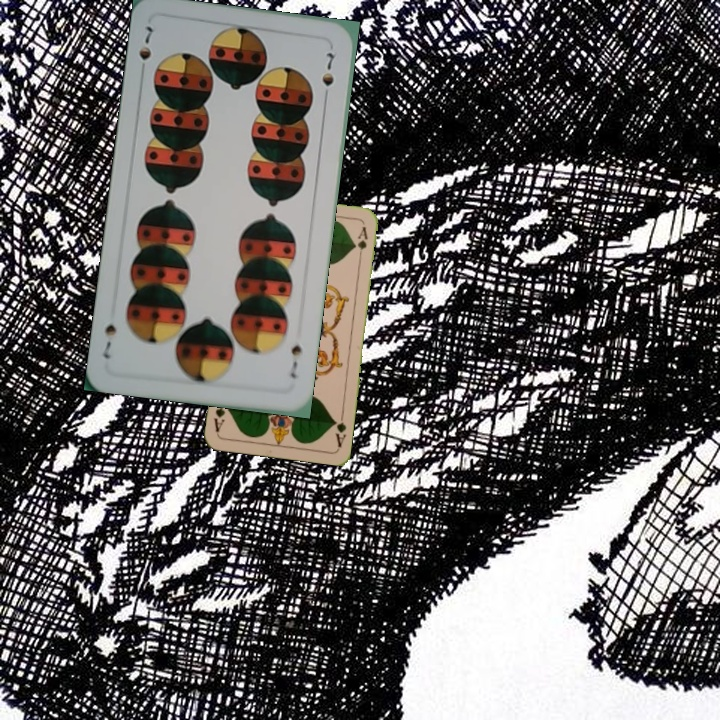GA: (330, 409, 349, 450)
S7: (135, 22, 155, 63), (286, 341, 304, 381)
